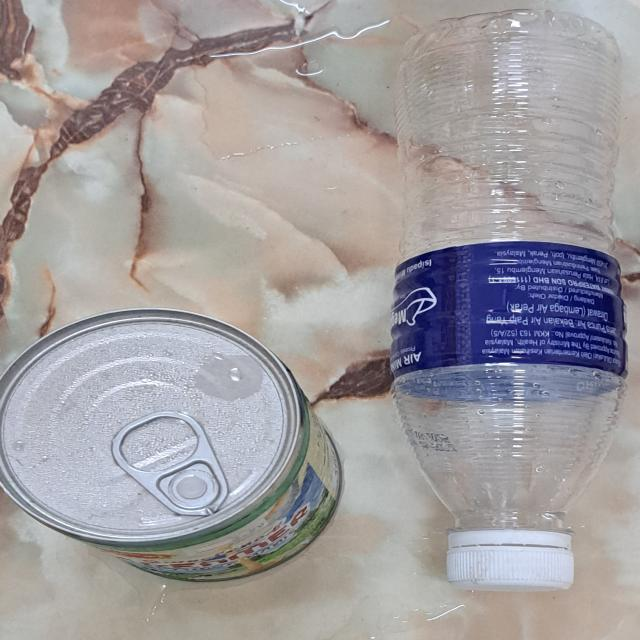can: (0, 306, 347, 581)
plastic bottle: (392, 6, 631, 592)
plastic bottle cap: (446, 529, 576, 594)
pop tab: (117, 409, 227, 519)
